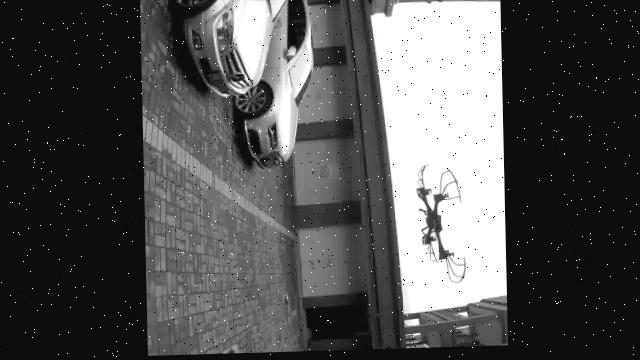drone: (399, 148, 471, 292)
